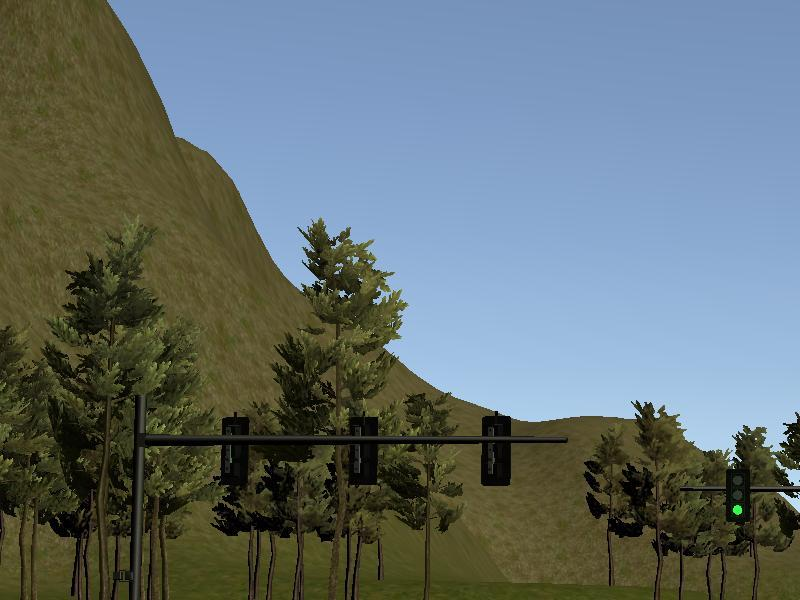Green: (726, 469, 749, 524)
